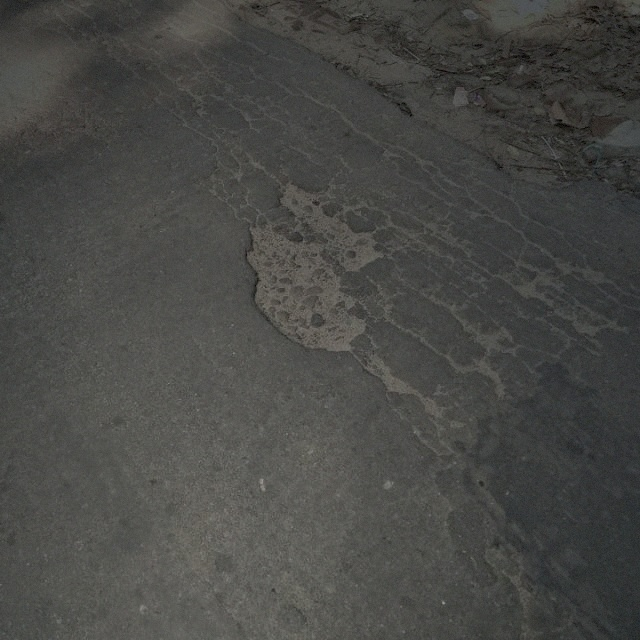pothole: (238, 180, 388, 353)
